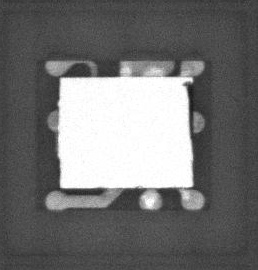DIE_BROKEN: (180, 79, 193, 138)
